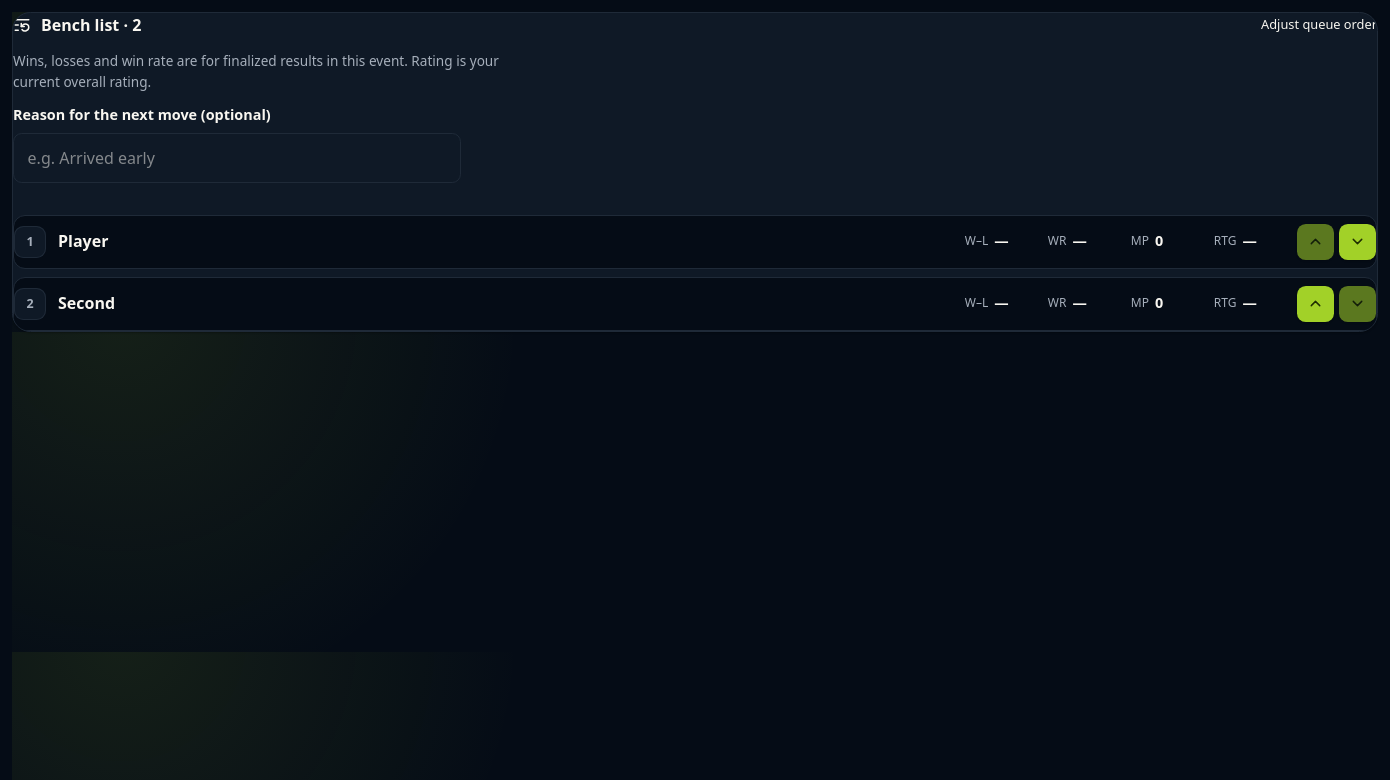
Test: rejects a reason that is too short to record
In the field labelled "Reason for the next move (optional)": (237, 158) [13,133,461,183], type "ok"
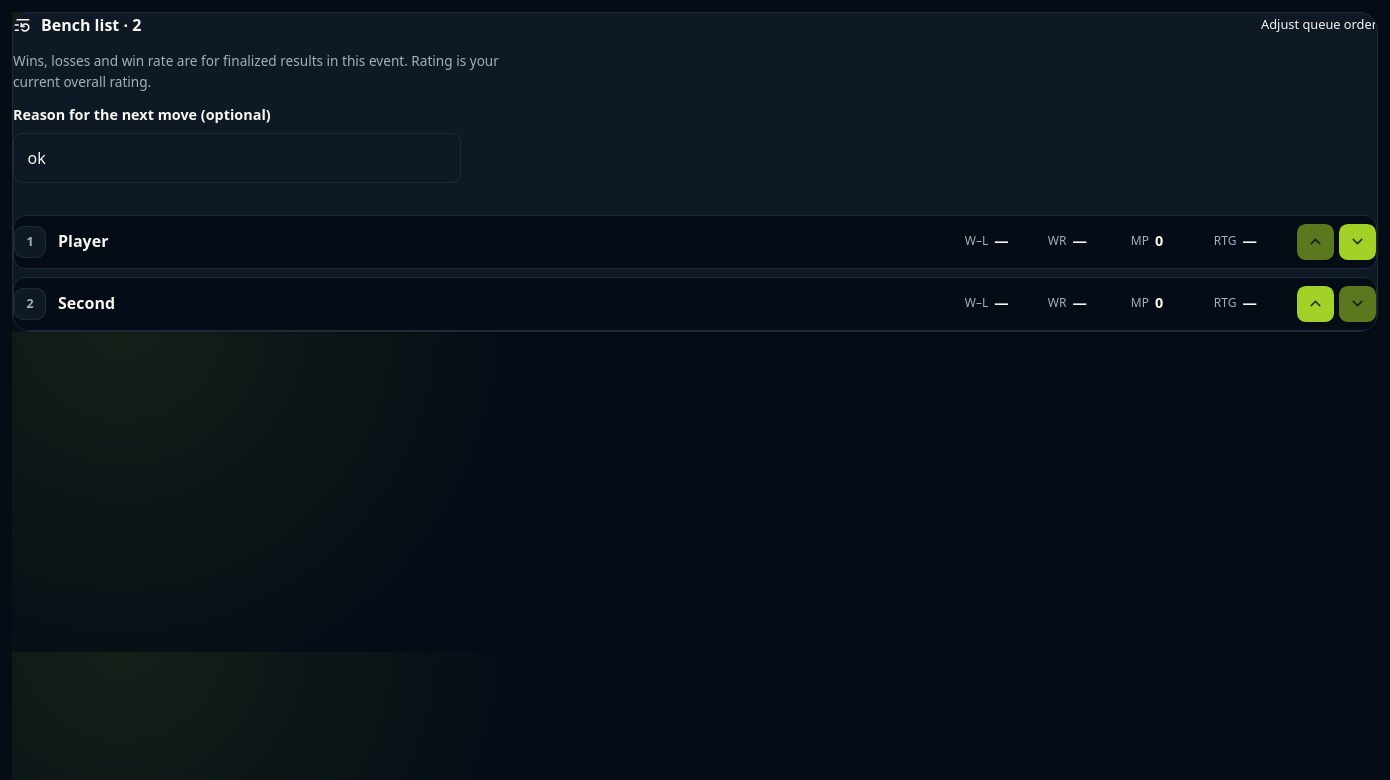
Click the button named "Move Second up": (1315, 304) [1297,286,1334,322]
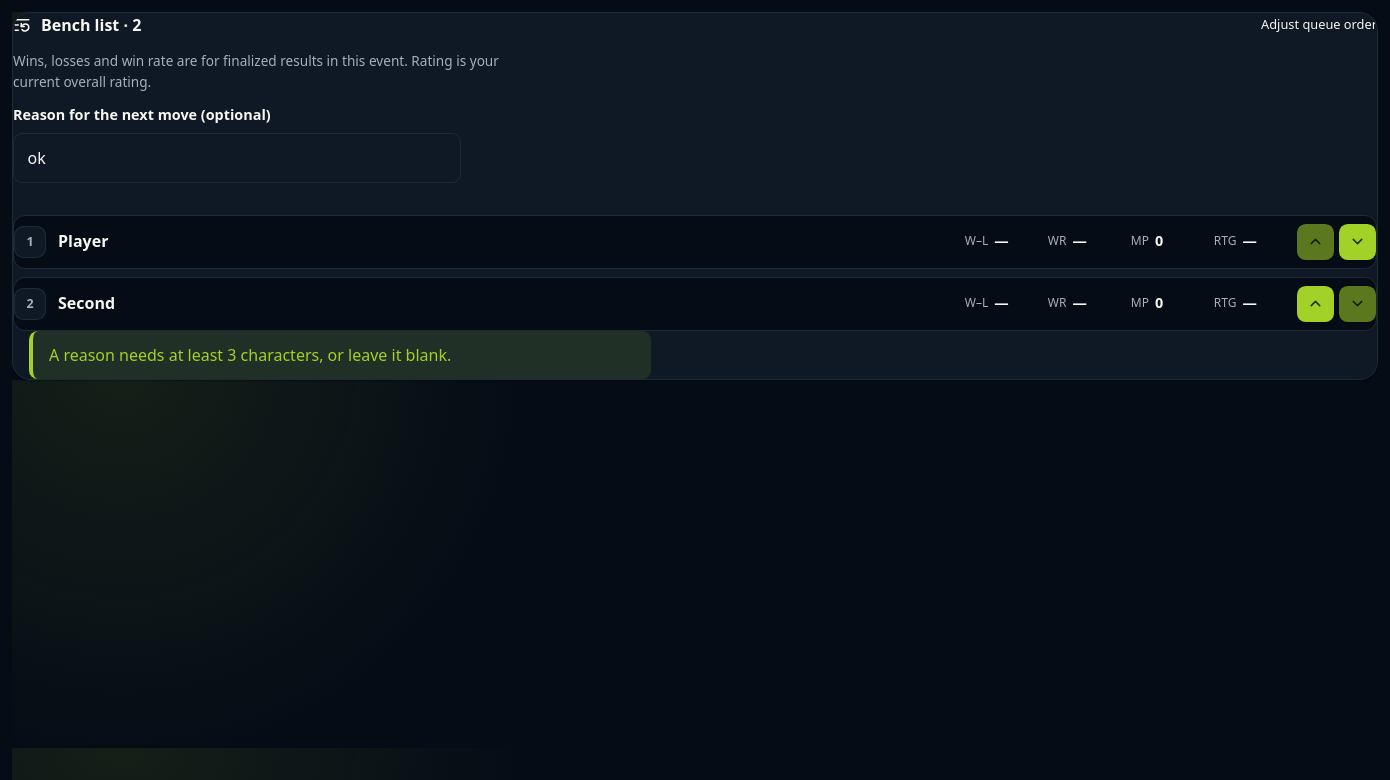
Expected: the message shows "A reason needs at least 3 characters", [49,344,451,366]
